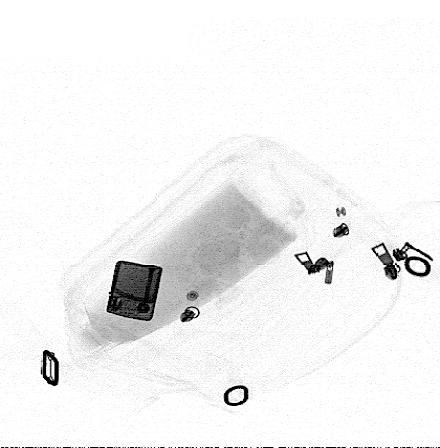Lighter: (105, 261, 162, 321)
